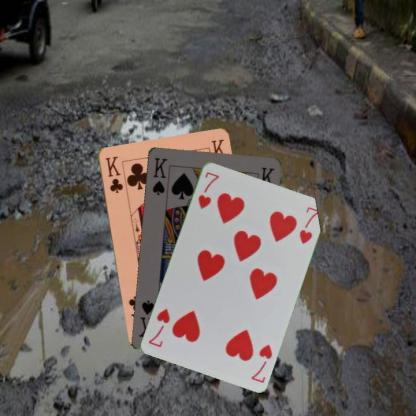7h: (249, 341, 274, 384), (195, 168, 220, 210)
Kc: (103, 153, 124, 194)
Ks: (149, 155, 168, 196)
